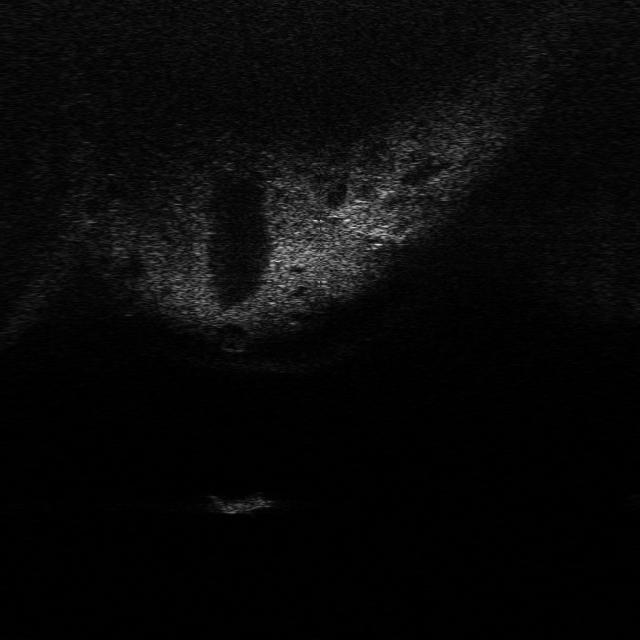cube: (200, 485, 274, 517)
